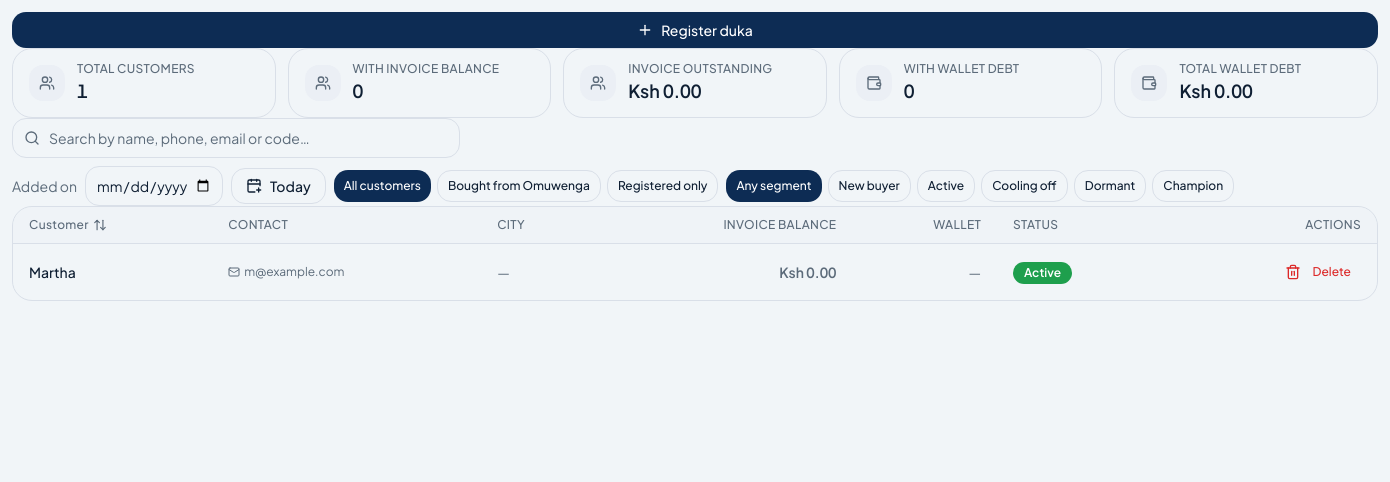
Scenario: Customers module › shows how many customers were added on a picked day
Check: the text "Martha" is shown, box left=29, top=263, right=76, bottom=281
Type "2026-09-15" into the date field with test id "customers-added-on" at (154, 186), box left=85, top=166, right=223, bottom=206
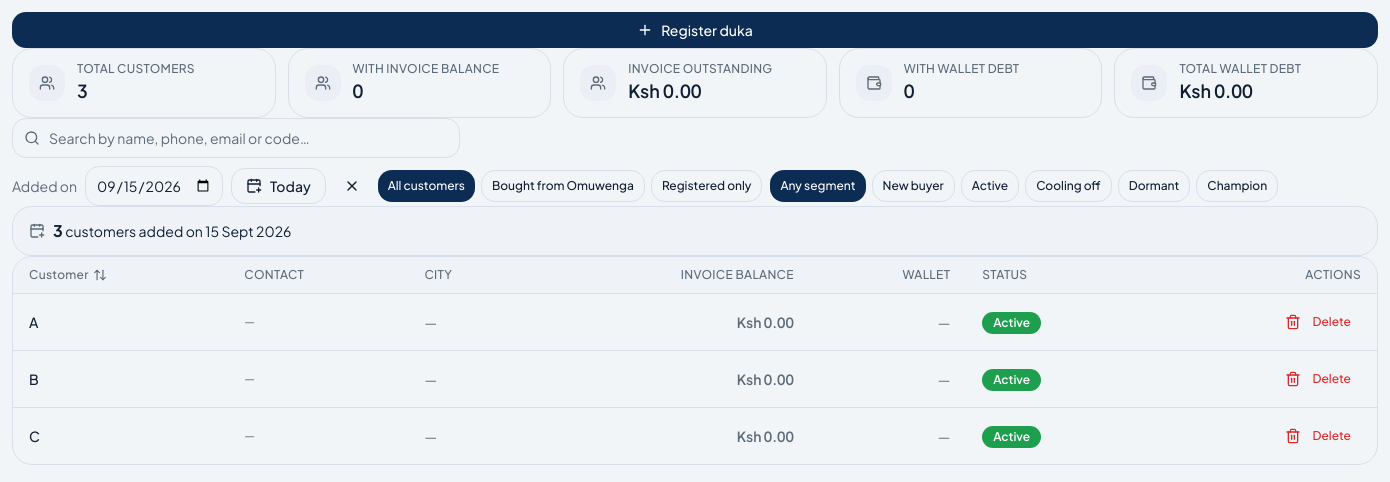
Check: the element with test id "customers-added-count" reads "3 customers added on 15 Sept 2026", box left=12, top=206, right=1378, bottom=256
